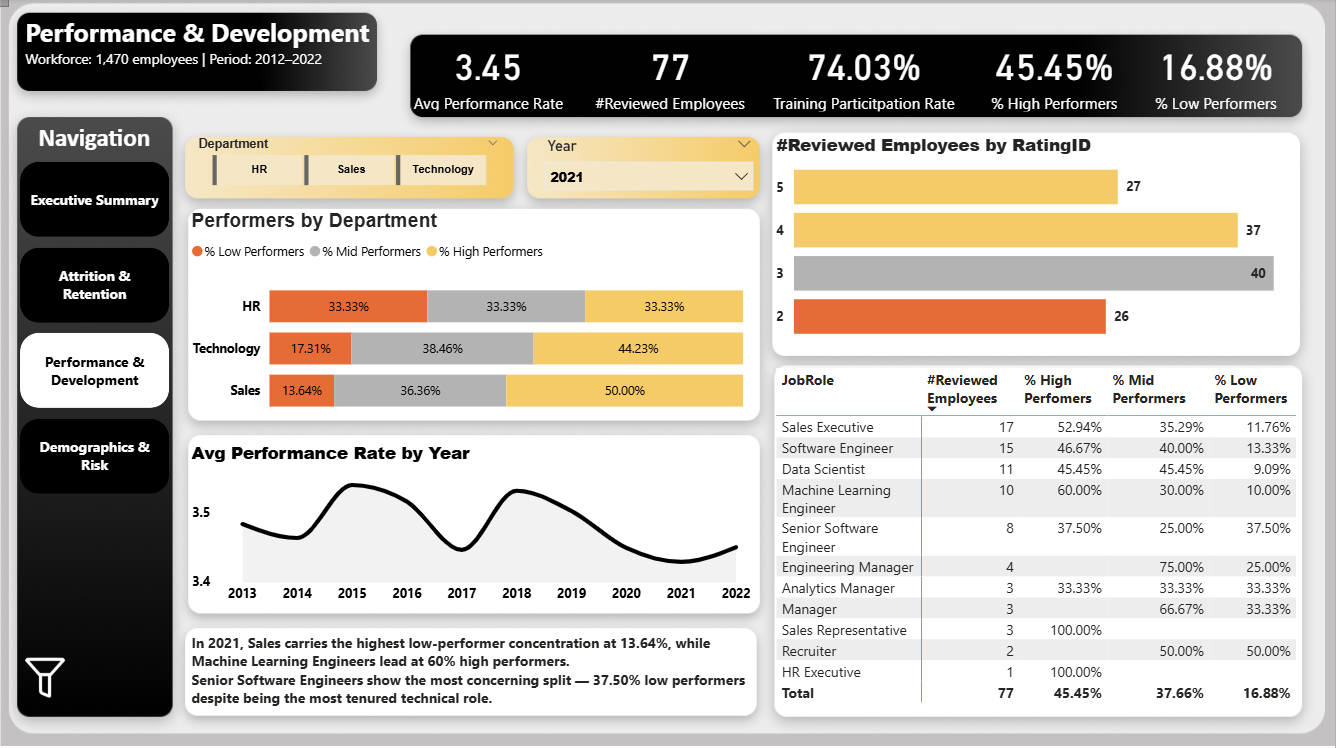

Layout of this report page (visuals, bound fields, positions):
{"tool":"powerbi","page":{"name":"Performance & Development","canvas":[1280,720],"ordinal":2},"visuals":[{"type":"card","fields":{"Values":["_Measures.Avg Performance Rate"]},"box":[383.6,33.8,170.1,79.6],"z":0},{"type":"card","fields":{"Values":["_Measures.#Reviewed Employees"]},"box":[557.7,33.6,171,79.8],"z":1000},{"type":"card","fields":{"Values":["_Measures.Training Particitpation Rate"]},"box":[732.2,33.7,192.7,80.3],"z":2000},{"type":"card","fields":{"Values":["_Measures.% High Performers"]},"box":[924.9,33.7,171.8,80.3],"z":3000},{"type":"card","fields":{"Values":["_Measures.% Low Performers"]},"box":[1081,33.8,170.1,79.6],"z":4000},{"type":"textbox","box":[739.5,574.3,529.6,123.1],"z":5000},{"type":"textbox","box":[19.7,11.8,348.9,82.6],"z":6000},{"type":"pageNavigator","box":[19.3,156.8,143.6,320],"z":7000},{"type":"slicer","fields":{"Values":["DimDate.Year"]},"box":[512,128.6,220.7,58],"z":8000},{"type":"slicer","fields":{"Values":["DimEmployee.Department"]},"box":[177.8,128.6,312.7,58],"z":9000},{"type":"lineChart","fields":{"Category":["DimDatePerformance.Date.Variation.Date Hierarchy.Year","DimDatePerformance.Date.Variation.Date Hierarchy.Quarter","DimDatePerformance.Date.Variation.Date Hierarchy.Month","DimDatePerformance.Date.Variation.Date Hierarchy.Day"],"Y":["_Measures.Avg Performance Rate"]},"box":[178.4,424.5,553.4,165.4],"z":10000},{"type":"hundredPercentStackedBarChart","title":"Performers by Department","fields":{"Y":["_Measures.% Low Performers","_Measures.% Mid Performers","_Measures.% High Performers"],"Category":["DimEmployee.Department"]},"box":[178.4,203.1,539.1,212.2],"z":11000},{"type":"pivotTable","fields":{"Values":["_Measures.#Reviewed Employees","_Measures.% High Performers","_Measures.% Mid Performers","_Measures.% Low Performers"],"Rows":["DimEmployee.JobRole"]},"box":[739.6,350.3,511.7,347.7],"z":12000},{"type":"barChart","fields":{"Y":["_Measures.#Reviewed Employees"],"Category":["RatingLevel.RatingID"]},"box":[739.6,128.9,507.8,205.7],"z":13000},{"type":"textbox","box":[178.6,604.4,550.1,83.2],"z":14000},{"type":"image","box":[19.7,617.7,48.5,68.2],"z":15000},{"type":"textbox","box":[14.4,114.1,152.1,45.9],"z":15001}]}

Visuals, with their boxes in screenshot pixels (x1, y1, x2, y2), scaled from the page's 1280x720 canvas onto the 1336x748 screenshot:
card - _Measures.Avg Performance Rate: <box>400,35,578,118</box>
card - _Measures.#Reviewed Employees: <box>582,35,761,118</box>
card - _Measures.Training Particitpation Rate: <box>764,35,965,118</box>
card - _Measures.% High Performers: <box>965,35,1145,118</box>
card - _Measures.% Low Performers: <box>1128,35,1306,118</box>
textbox: <box>772,597,1325,725</box>
textbox: <box>21,12,385,98</box>
pageNavigator: <box>20,163,170,495</box>
slicer - DimDate.Year: <box>534,134,765,194</box>
slicer - DimEmployee.Department: <box>186,134,512,194</box>
lineChart - DimDatePerformance.Date.Variation.Date Hierarchy.Year x DimDatePerformance.Date.Variation.Date Hierarchy.Quarter: <box>186,441,764,613</box>
"Performers by Department" hundredPercentStackedBarChart: <box>186,211,749,431</box>
pivotTable - _Measures.#Reviewed Employees x _Measures.% High Performers: <box>772,364,1306,725</box>
barChart - _Measures.#Reviewed Employees x RatingLevel.RatingID: <box>772,134,1302,348</box>
textbox: <box>186,628,761,714</box>
image: <box>21,642,71,713</box>
textbox: <box>15,119,174,166</box>
